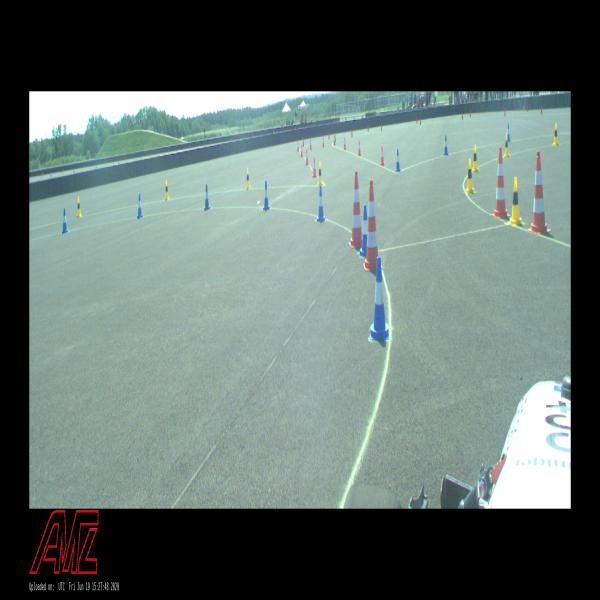blue_cone: (370, 257, 389, 340), (358, 204, 367, 258), (317, 186, 325, 222), (263, 181, 270, 210), (62, 208, 68, 234), (204, 185, 210, 210), (138, 194, 144, 218), (396, 148, 400, 172), (444, 135, 448, 155), (507, 123, 510, 142)
large_orange_cone: (527, 150, 551, 235), (363, 181, 382, 272), (491, 148, 510, 219), (348, 171, 362, 248)
orange_cone: (312, 158, 317, 178), (380, 146, 384, 166), (305, 149, 309, 165), (358, 140, 361, 156), (322, 137, 325, 147), (344, 137, 346, 150), (301, 145, 303, 157), (297, 141, 299, 152), (334, 135, 336, 145), (310, 140, 312, 150)
yellow_cone: (509, 177, 522, 226), (466, 159, 474, 193), (503, 134, 510, 158), (472, 145, 478, 172), (553, 123, 559, 146), (76, 197, 82, 218), (318, 162, 323, 185), (246, 168, 250, 189), (165, 181, 169, 200)
